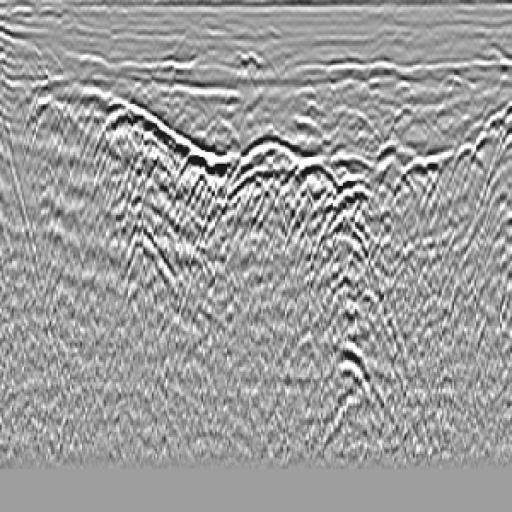metalic: (212, 121, 336, 287)
